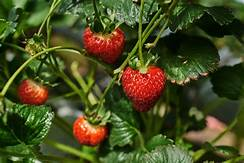Fresa: (119, 61, 169, 116), (81, 17, 127, 68), (69, 110, 111, 149), (14, 75, 54, 107)
